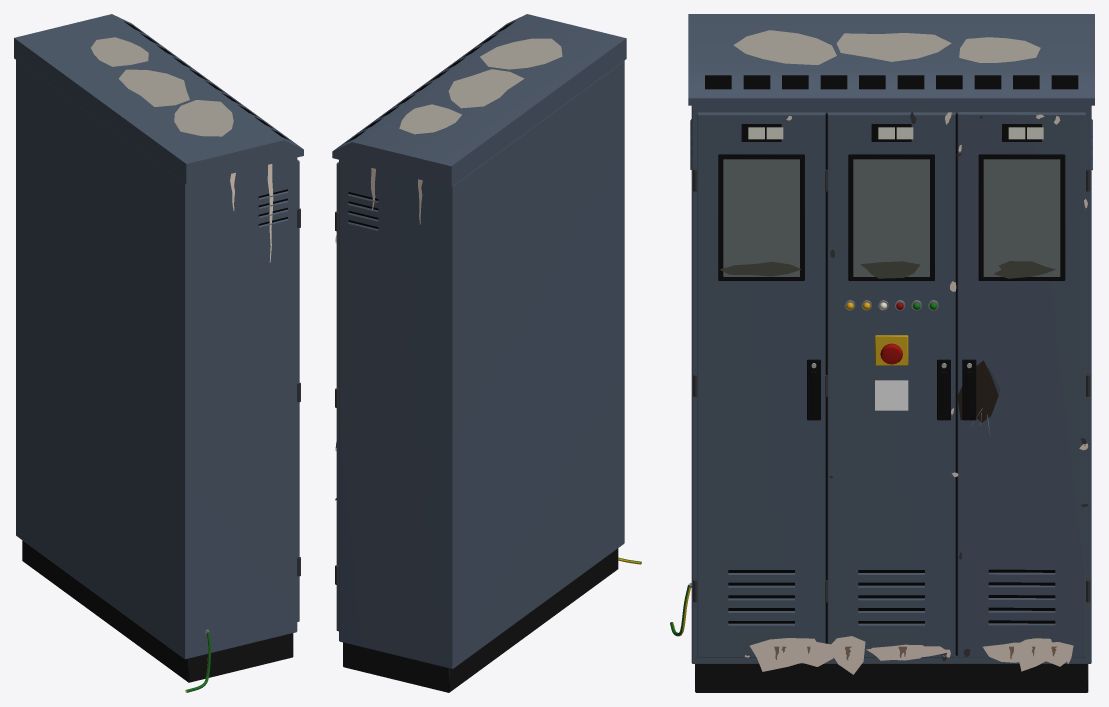
The model's file is switch_cabinet@2.glb.
3 views of the same model, side by side, from view 1: azimuth 30°, elevation 25°; view 2: azimuth 150°, elevation 25°; view 3: azimuth 270°, elevation 25° (orthographic). The views are drawn at different scales.
Parts seen in each view (by area): view 1: teil.001, teil, teil.026, teil.002, teil.022; view 2: teil.001, teil, teil.026, teil.002; view 3: teil.001, teil.007, teil, teil.004, teil.002, teil.026, teil.022, teil.006, teil.008, teil.009, teil.003, teil.024 (+2 smaller).
Boxes of the visible parts, box(x1,y1,x2,y2) form: teil.001: box(14, 14, 303, 659); teil: box(22, 540, 293, 682); teil.026: box(91, 37, 233, 136); teil.002: box(124, 21, 289, 225); teil.022: box(230, 164, 273, 262); teil.001: box(332, 14, 626, 668); teil: box(343, 548, 618, 692); teil.026: box(399, 38, 562, 134); teil.002: box(346, 21, 515, 228); teil.001: box(688, 14, 1094, 663); teil.007: box(723, 159, 1060, 276); teil: box(695, 664, 1088, 692); teil.004: box(718, 124, 1065, 420); teil.002: box(705, 75, 1078, 623); teil.026: box(733, 30, 1040, 64); teil.022: box(745, 112, 1088, 674); teil.006: box(825, 113, 957, 655); teil.008: box(719, 261, 1055, 278); teil.009: box(748, 127, 1043, 139); teil.003: box(693, 111, 1090, 661); teil.024: box(957, 360, 998, 422).
Size of the model in its own units: 0.5527 by 2.04 by 1.28.
